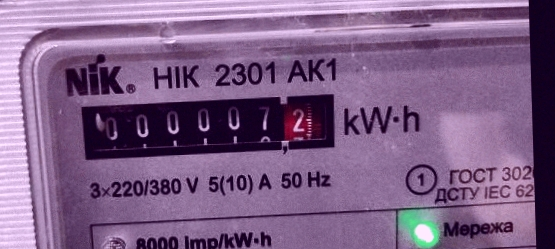0: (163, 108, 181, 136), (133, 111, 150, 140), (102, 114, 119, 142), (224, 104, 241, 132), (194, 105, 210, 133)
2: (289, 106, 306, 135)
7: (254, 104, 271, 133)
screen: (72, 85, 347, 166)
